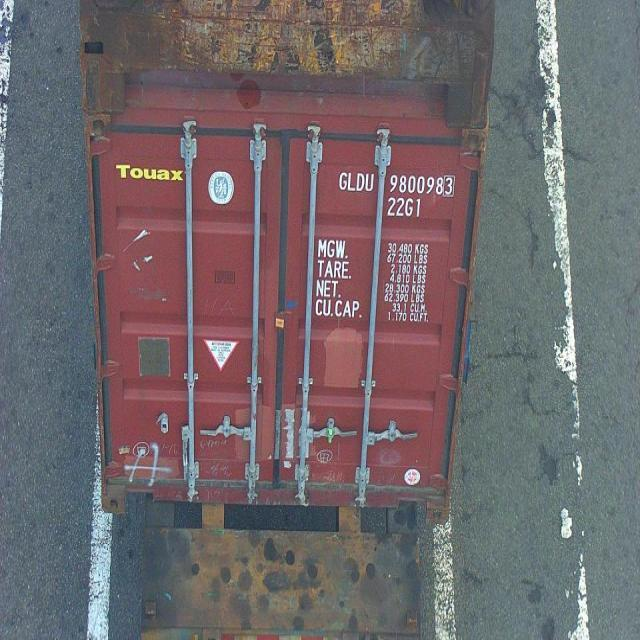ISO: (387, 198, 422, 216)
container_number: (336, 174, 456, 194)
